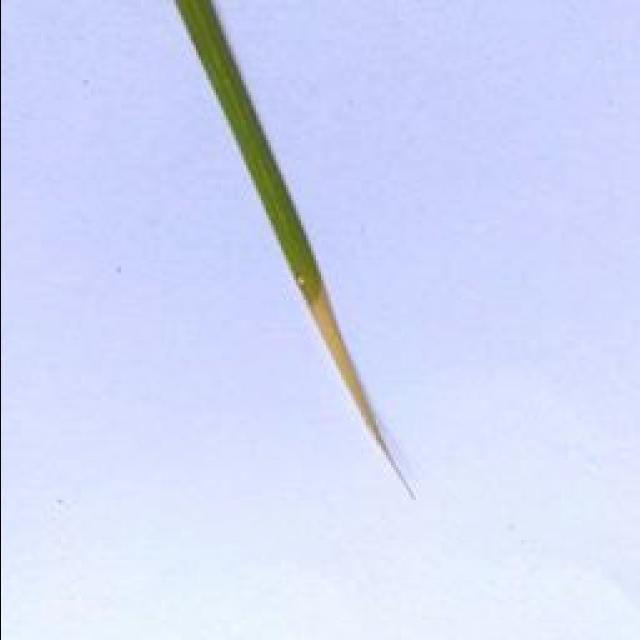Unhealthy: (307, 278, 416, 500), (295, 274, 305, 286)
